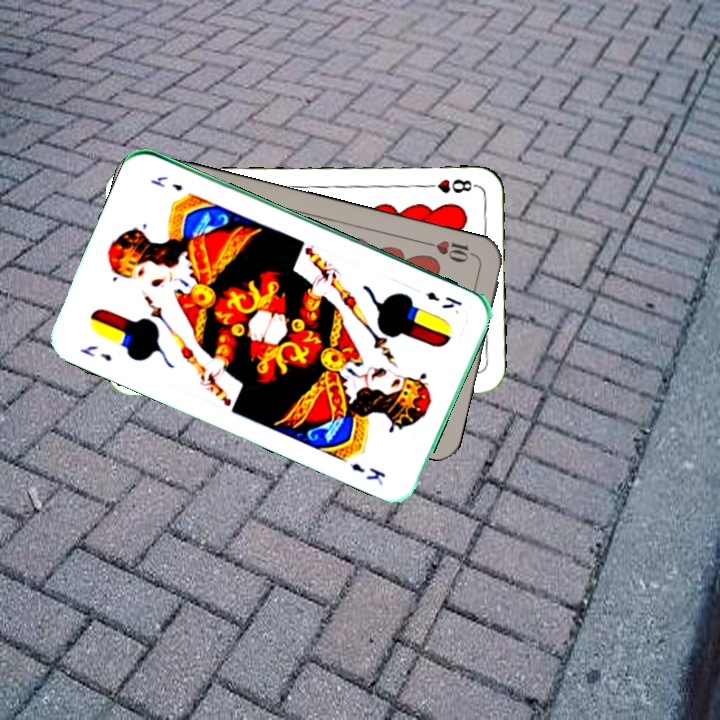EK: (422, 287, 465, 312), (76, 341, 115, 364)
H10: (422, 236, 480, 266)
H8: (420, 174, 479, 195)
